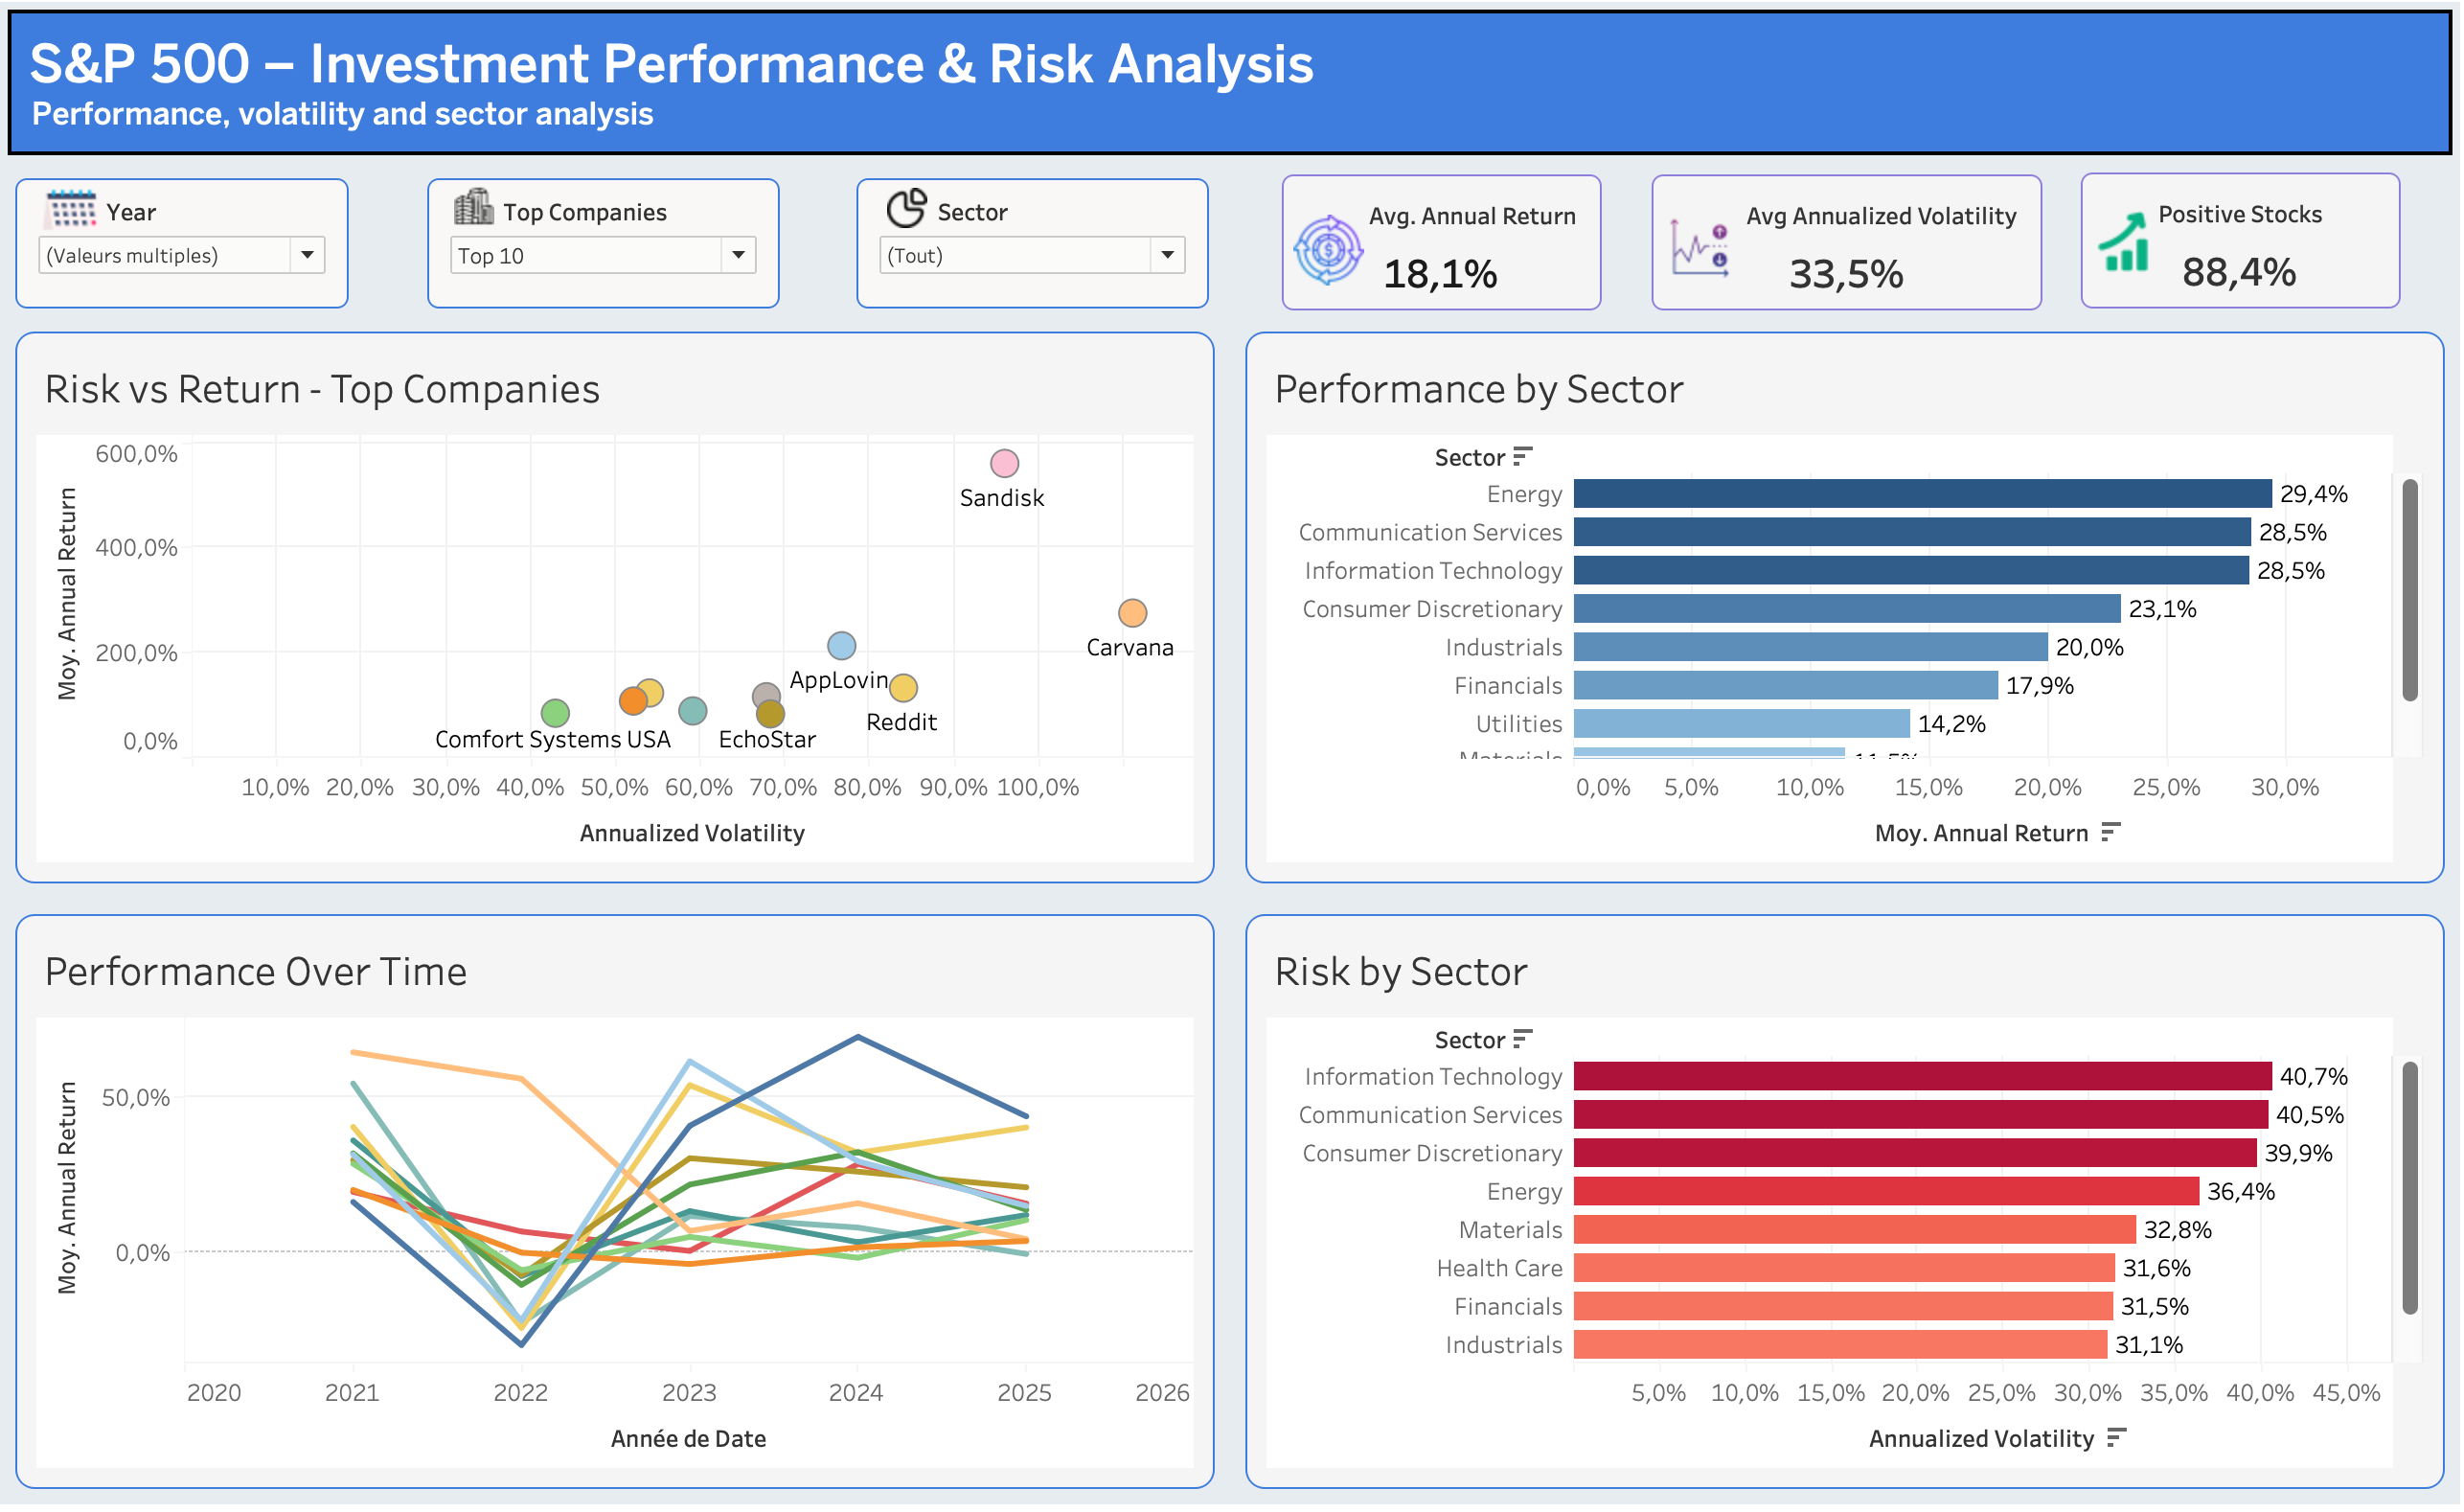

This screenshot's page, from the dashboard's own definition file:
{"tool":"tableau","page":{"name":"S&P 500 - Investment Performance & Risk Dashboard","canvas":[1300,800],"ordinal":0},"visuals":[{"type":"text","box":[8,8,1284,84]},{"type":"image","box":[8,92,1284,80]},{"type":"worksheet","title":"KPI - Positive Return","mark":"Automatic","box":[1090,93,175,79]},{"type":"worksheet","title":"KPI - Avg Annual Return","mark":"Automatic","box":[673,94,175,79]},{"type":"worksheet","title":"KPI - Avg Annualized Volatility","mark":"Automatic","box":[866,94,212,79]},{"type":"filter","title":"Performance Over Time","param":"[federated.1wsyslj0artd4d18tbu5h04ap9k3].[yr:date:ok]","box":[12,96,182,76]},{"type":"parameter","param":"[Parameters].[Paramètre 6259089066754069]","box":[227,96,192,76]},{"type":"filter","title":"Risk vs Return - Top Companies","param":"[federated.1wsyslj0artd4d18tbu5h04ap9k3].[none:sector:nk]","box":[451,96,192,76]},{"type":"image","param":"/Users/nguyenxuanthu/Downloads/calendar.png","box":[28,99,47,35]},{"type":"image","param":"/Users/nguyenxuanthu/Downloads/city.png","box":[245,104,32,21]},{"type":"image","param":"/Users/nguyenxuanthu/Downloads/pie-chart.png","box":[471,105,27,21]},{"type":"image","param":"/Users/nguyenxuanthu/Downloads/increase.png","box":[1100,117,40,32]},{"type":"image","param":"/Users/nguyenxuanthu/Downloads/return.png","box":[683,119,40,37]},{"type":"image","param":"/Users/nguyenxuanthu/Downloads/volatility.png","box":[879,120,37,32]},{"type":"worksheet","title":"Risk vs Return - Top Companies","mark":"Pie","rows":["Calculation_6259088978403328"],"box":[8,172,642,304]},{"type":"worksheet","title":"Performance by Sector","mark":"Bar","rows":["sector"],"cols":["Calculation_6259088978403328"],"box":[650,172,642,304]},{"type":"worksheet","title":"Performance Over Time","mark":"Line","rows":["Calculation_6259088978403328"],"cols":["date"],"box":[8,476,642,316]},{"type":"worksheet","title":"Risk by Sector","mark":"Bar","rows":["sector"],"box":[650,476,642,316]}]}

Visuals, with their boxes in screenshot pixels (x1, y1, x2, y2), scaled from the page's 1300x800 canvas onto the 2464x1512 screenshot:
text: [15,15,2449,173]
image: [15,173,2449,325]
"KPI - Positive Return" worksheet: [2066,175,2398,325]
"KPI - Avg Annual Return" worksheet: [1276,177,1608,327]
"KPI - Avg Annualized Volatility" worksheet: [1641,177,2043,327]
"Performance Over Time" filter: [23,181,368,325]
parameter: [430,181,794,325]
"Risk vs Return - Top Companies" filter: [855,181,1219,325]
image: [53,187,142,253]
image: [465,196,525,237]
image: [893,198,944,239]
image: [2085,221,2160,282]
image: [1294,225,1370,295]
image: [1666,227,1736,287]
"Risk vs Return - Top Companies" worksheet (Pie marks): [15,325,1232,900]
"Performance by Sector" worksheet (Bar marks): [1232,325,2449,900]
"Performance Over Time" worksheet (Line marks): [15,900,1232,1497]
"Risk by Sector" worksheet (Bar marks): [1232,900,2449,1497]
